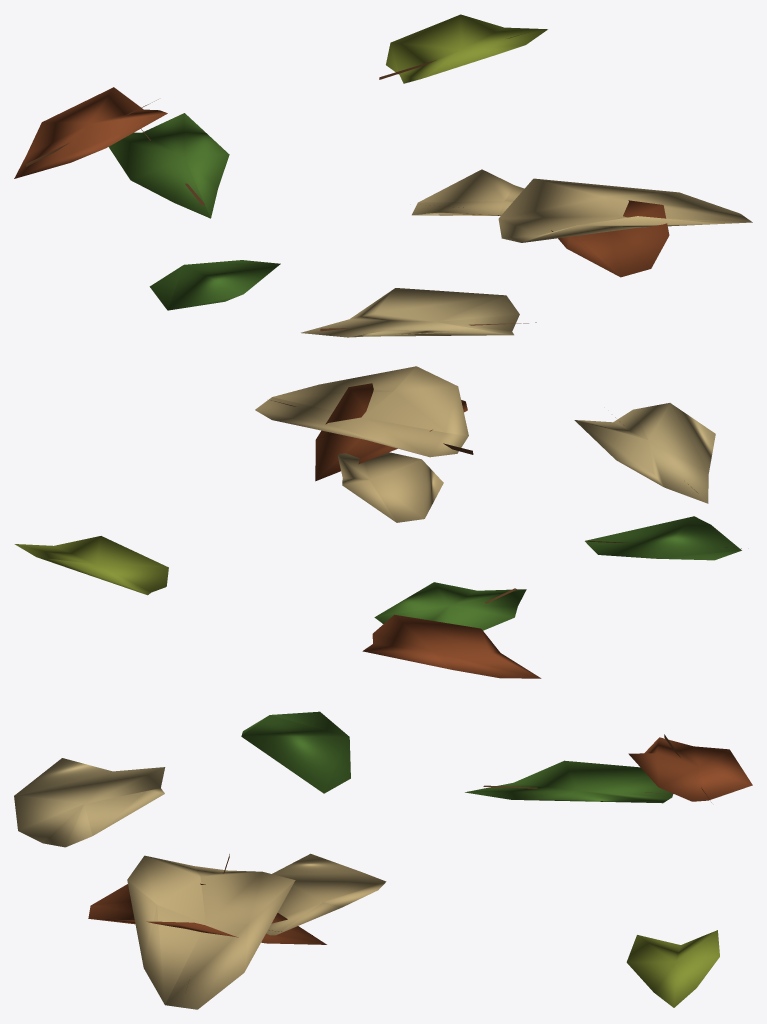
The model's file is mire_gc_leaves_c_lod2.glb.
3 renders of one model, top to bottom at view 1: azimuth 30°, elevation 25°; view 2: azimuth 150°, elevation 25°; view 3: azimuth 270°, elevation 25°, orthographic. The views are drawn at different scales.
Visible parts, largest first — view 1: mire_gc_leaves_c.001; view 2: mire_gc_leaves_c.001; view 3: mire_gc_leaves_c.001.
Boxes of the visible parts, box(x1,y1,x2,y2) form: mire_gc_leaves_c.001: box(14, 14, 752, 337); mire_gc_leaves_c.001: box(14, 366, 741, 678); mire_gc_leaves_c.001: box(14, 711, 752, 1009).
Size of the model in its own units: 4.36 by 0.3932 by 4.48.
